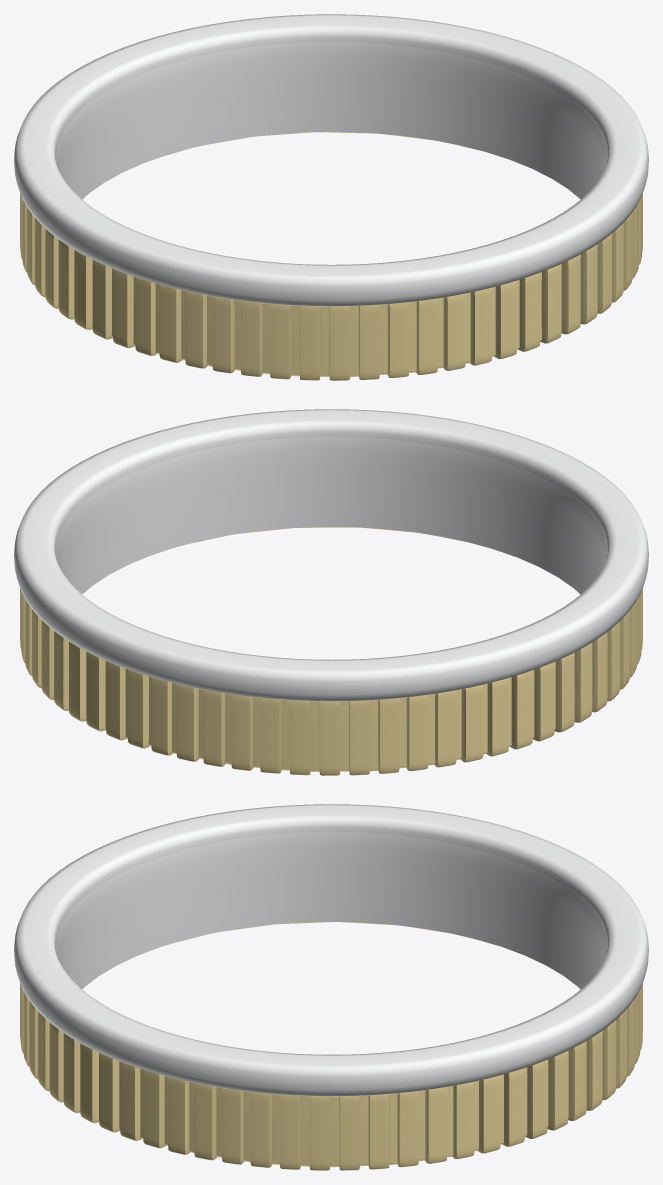
3 views of the same model, one above another, from view 1: azimuth 30°, elevation 25°; view 2: azimuth 150°, elevation 25°; view 3: azimuth 270°, elevation 25° (orthographic).
Parts seen in each view (by area): view 1: Base_Metal, Engraving_Metal, Finishing_Metal; view 2: Base_Metal, Engraving_Metal, Finishing_Metal; view 3: Base_Metal, Engraving_Metal, Finishing_Metal.
Part boxes in pixels (left/top/right/bottom): Base_Metal: left=14, top=14, right=648, bottom=306; Engraving_Metal: left=56, top=41, right=606, bottom=199; Finishing_Metal: left=20, top=132, right=642, bottom=380; Base_Metal: left=14, top=409, right=648, bottom=701; Engraving_Metal: left=56, top=436, right=606, bottom=594; Finishing_Metal: left=20, top=527, right=642, bottom=775; Base_Metal: left=14, top=804, right=648, bottom=1096; Engraving_Metal: left=56, top=831, right=606, bottom=989; Finishing_Metal: left=20, top=922, right=642, bottom=1170.
Bounding box in the file's own units: 2.3 × 0.4203 × 2.3.
